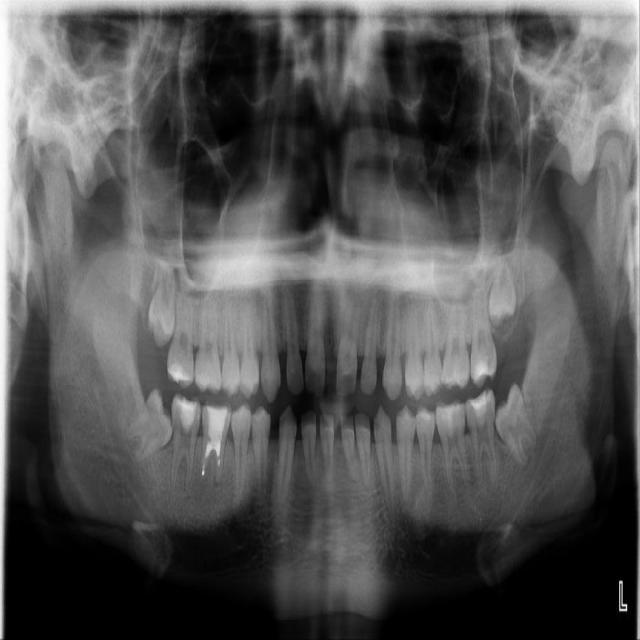3M ESPE Implant: (147, 231, 178, 348)
52: (454, 385, 504, 432), (167, 392, 205, 438), (468, 341, 500, 390), (434, 396, 468, 441), (166, 336, 194, 389), (198, 397, 233, 435), (412, 405, 437, 444)
73: (199, 433, 227, 486), (604, 548, 612, 564)
BioHorizons Implant: (469, 271, 502, 389)
BioLife Implant: (488, 220, 517, 330)
Biomet 3i Implant: (483, 381, 545, 472)
Blue Sky Bio Implant: (463, 386, 498, 494)
Caries: (166, 279, 194, 390)
Keystone Dental Implant: (113, 385, 189, 472), (167, 392, 202, 491)
